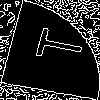T: (25, 24, 86, 65)
